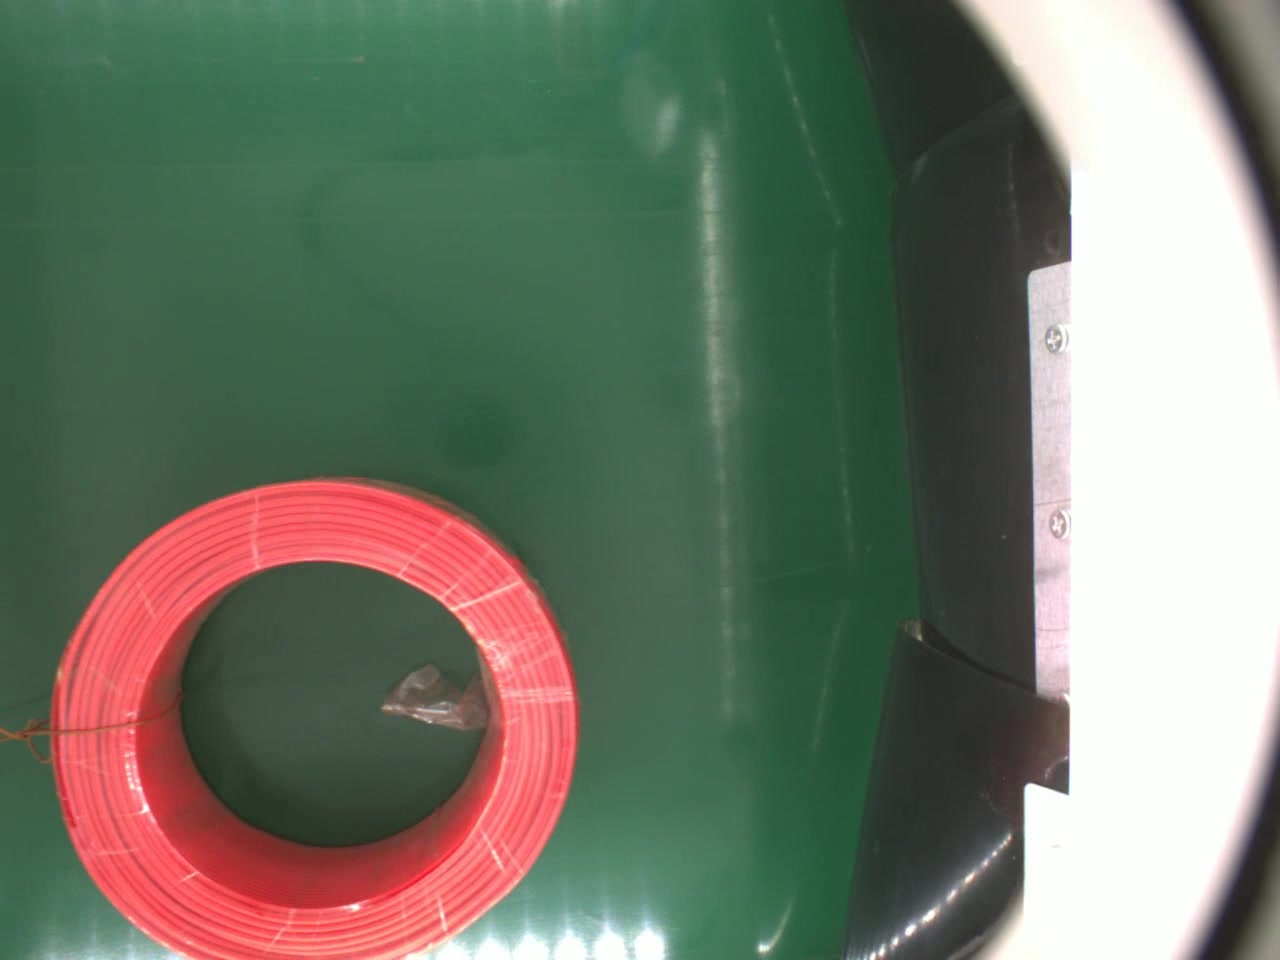red: (45, 473, 580, 960)
